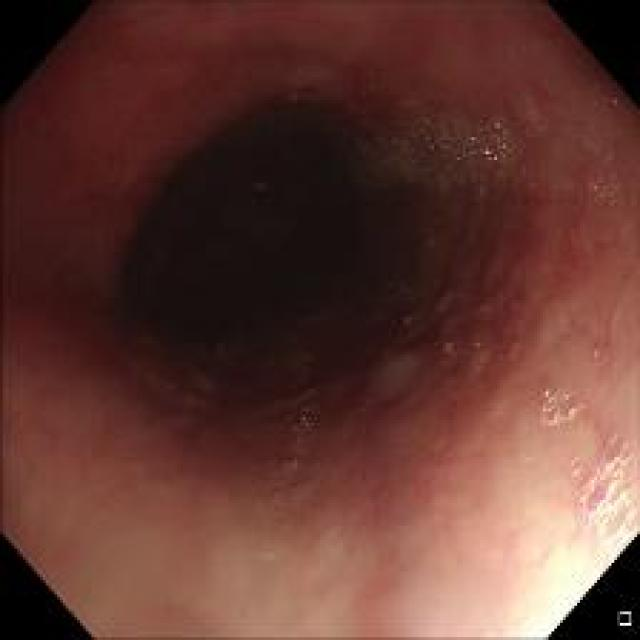bubbles: (361, 111, 540, 208), (558, 434, 632, 558), (266, 382, 320, 501), (541, 166, 622, 204), (538, 364, 581, 430), (470, 336, 489, 374), (440, 334, 458, 359), (508, 336, 524, 359), (489, 402, 504, 418)
color misalignment: (480, 145, 496, 161), (445, 348, 454, 358)
contrast: (108, 75, 491, 476)
saturation: (504, 525, 618, 629)
